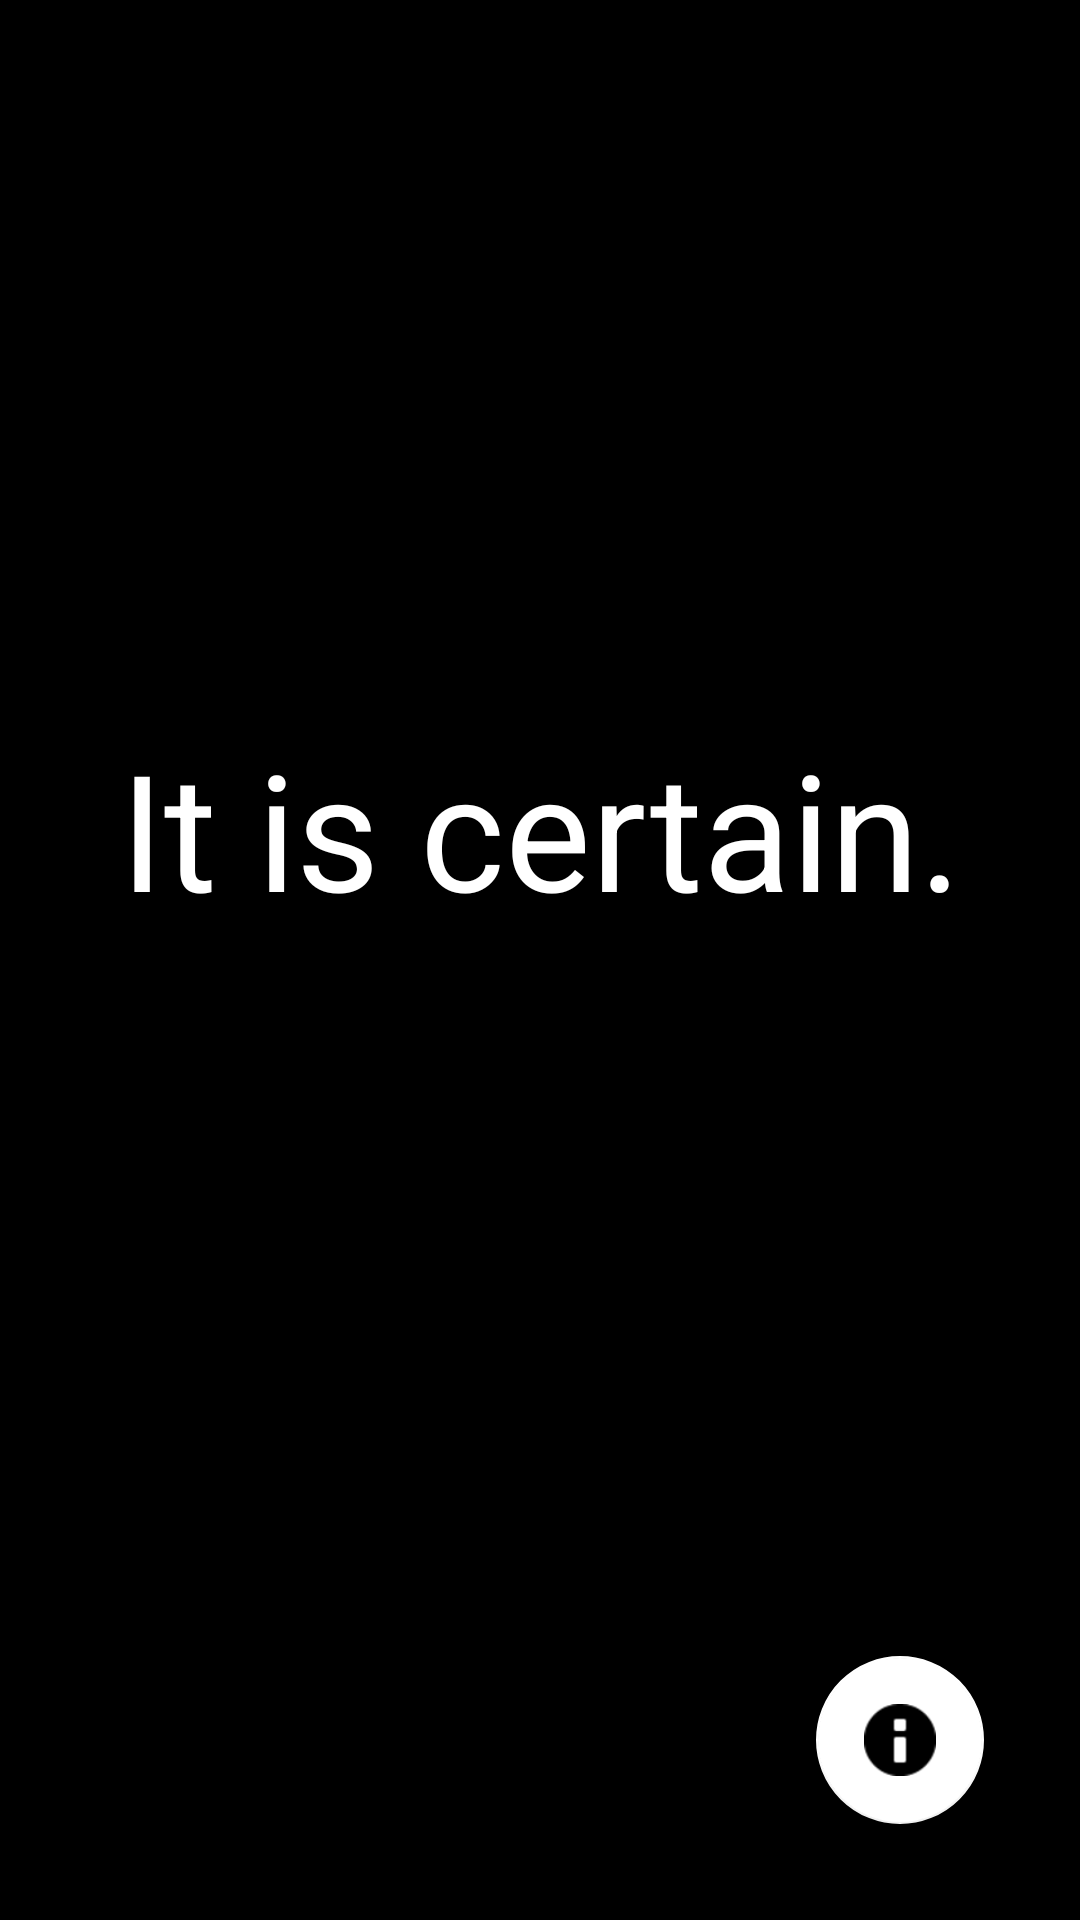

Locate icon controls on the screen. Image size 1080w x 1920h, boxes as (x1, y1, x2, y2).
info: (816, 1656, 984, 1824)
